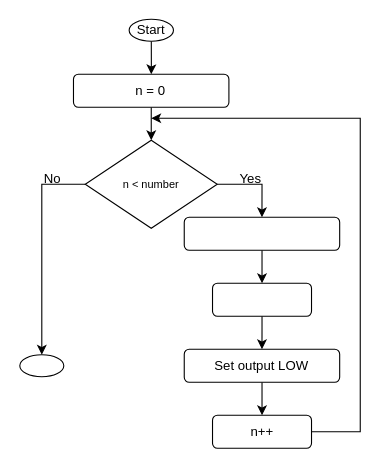
This 388x468 diagram has some shape labels left out. The centre of each missing label's shape, as x and y in pixels:
"End" goes at (41,365).
"Set output HIGH" goes at (261,233).
"Wait one clock" goes at (261,299).
